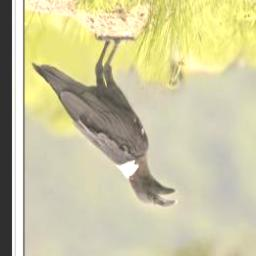Crow: (30, 34, 180, 209)
